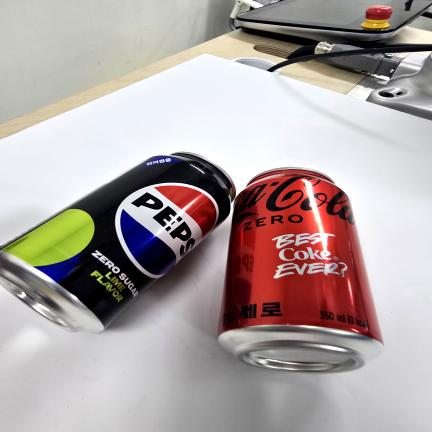can_coke_zero: (210, 168, 386, 377)
can_pepsi_zero: (0, 153, 235, 337)
